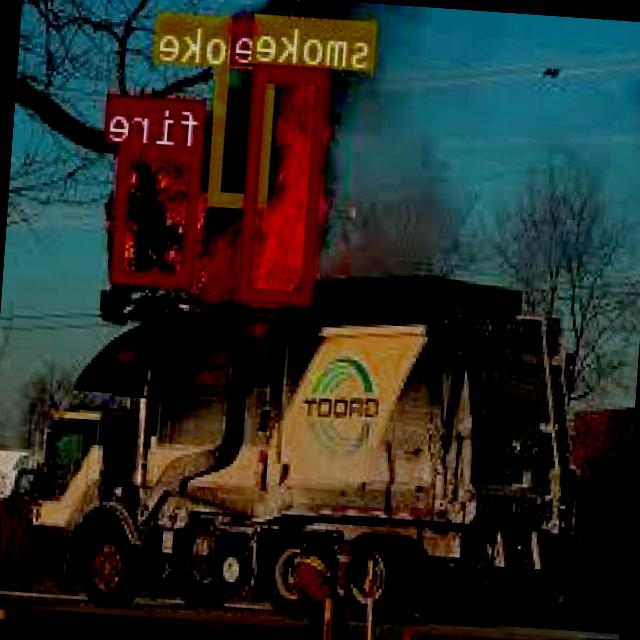fire: (242, 65, 331, 302), (112, 142, 204, 284)
smoke: (210, 15, 282, 206), (326, 16, 378, 64)
